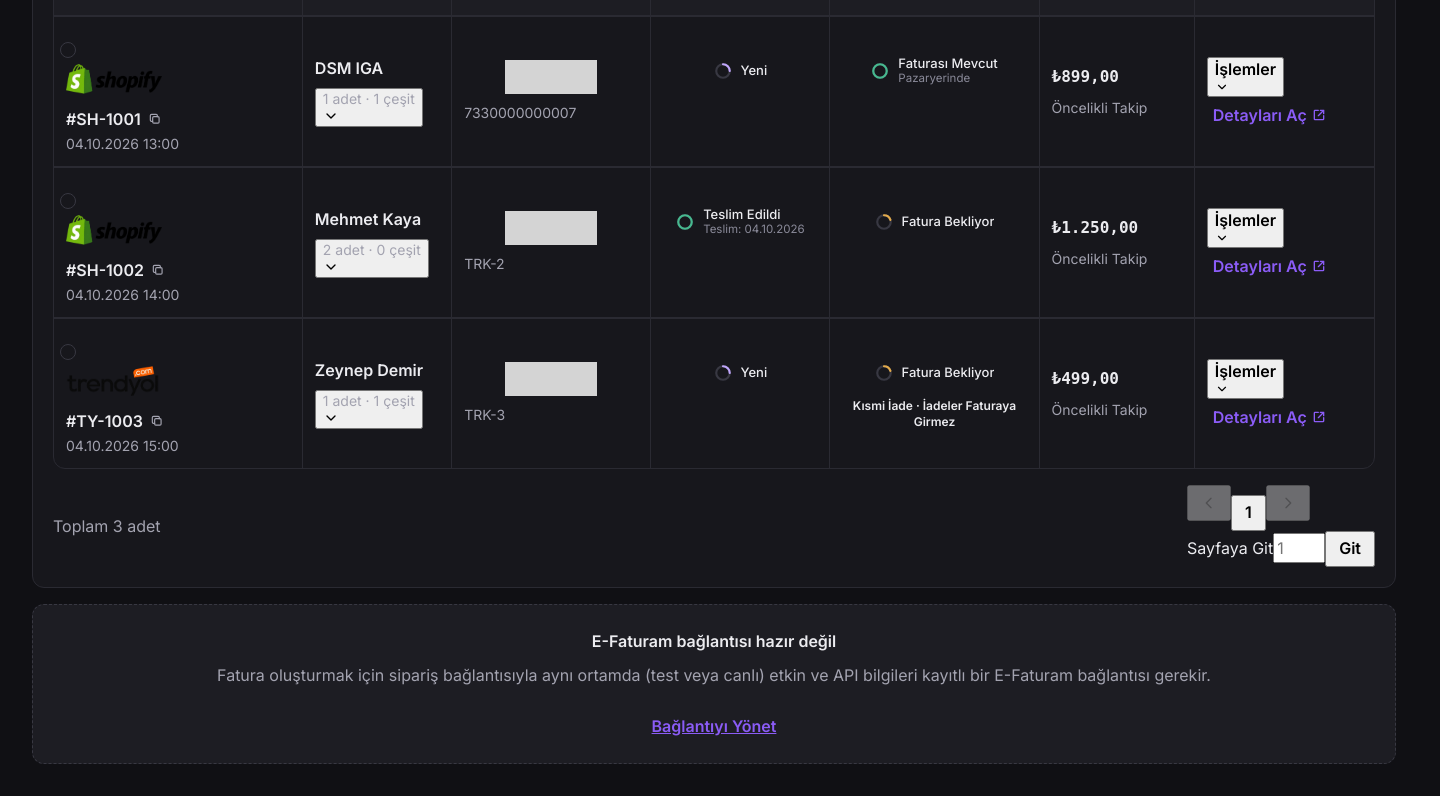
Test: InvoicesPage Shopify bulk invoice status › shows which returned units a partial invoice leaves out, on the row and in the details
(page scrolled)
Expected: the element with class "invoice-reference-status" shows "Kısmi İade · İadeler Faturaya Girmez", [853,398,1016,429]
Click the button with class "invoice-reference-details-trigger" in the row of "#TY-1003" at x=1270, y=417, box [1207,406,1333,428]
(page scrolled)
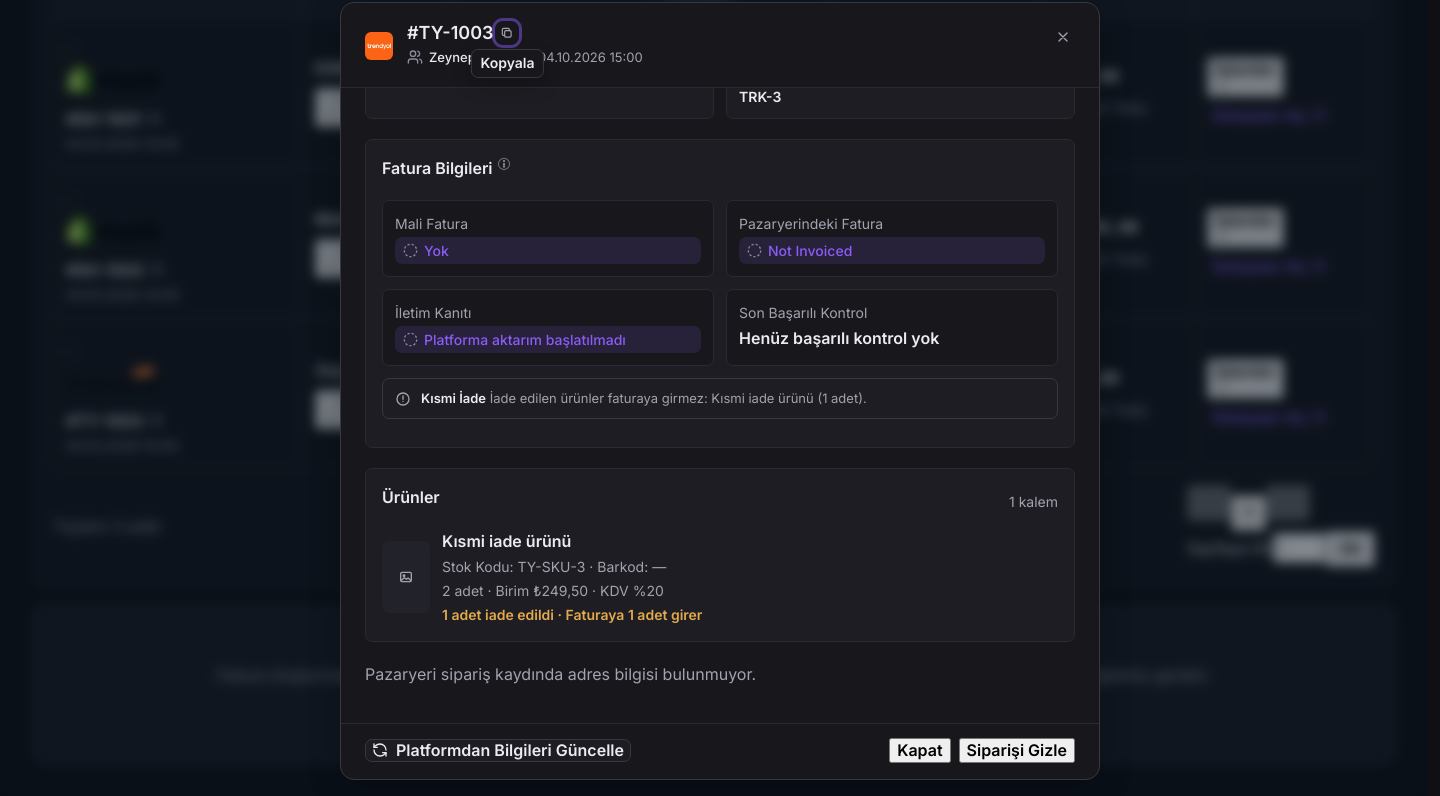
Expected: the message with class "invoice-return-document" shows "İade edilen ürünler faturaya girmez: Kısmi iade ürünü (1 adet).", [490,390,867,406]
Expected: the text with class "invoice-line-returned" reads "1 adet iade edildi · Faturaya 1 adet girer", [442,606,702,623]
